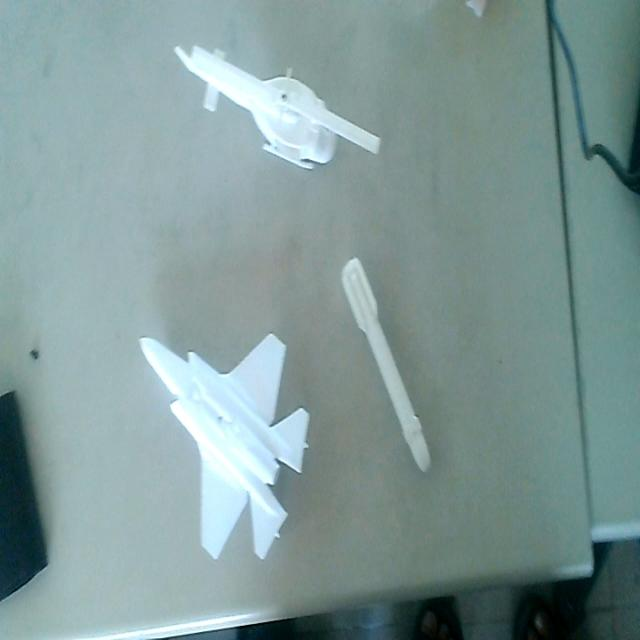Helicopter: (173, 30, 384, 180)
Jet: (135, 324, 311, 572)
Rocket: (340, 248, 433, 478)
